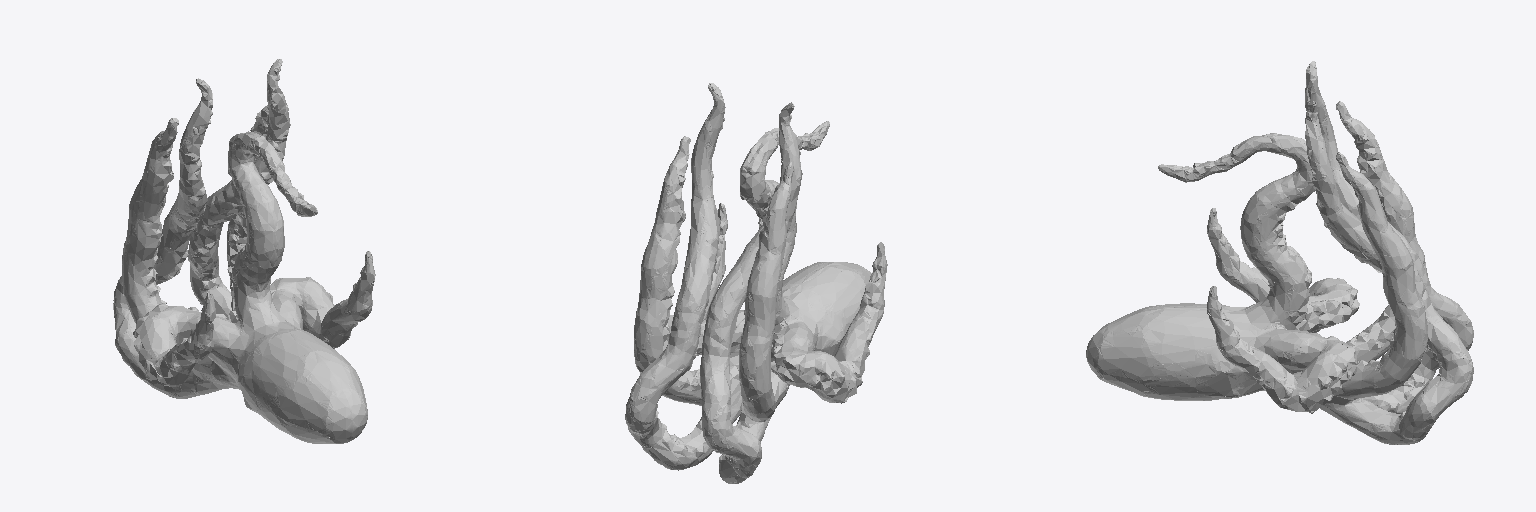
Rendered from squid.obj.
The picture shows the model from 3 angles: view 1: azimuth 30°, elevation 25°; view 2: azimuth 150°, elevation 25°; view 3: azimuth 270°, elevation 25°; orthographic projection.
Visible parts, largest first — view 1: mmGroup0; view 2: mmGroup0; view 3: mmGroup0.
Part boxes in pixels (x1,y1,x2,y2): mmGroup0: (113, 59, 375, 443); mmGroup0: (625, 83, 887, 483); mmGroup0: (1086, 61, 1473, 444).
Size of the model in its own units: 45.29 by 76.43 by 76.65.